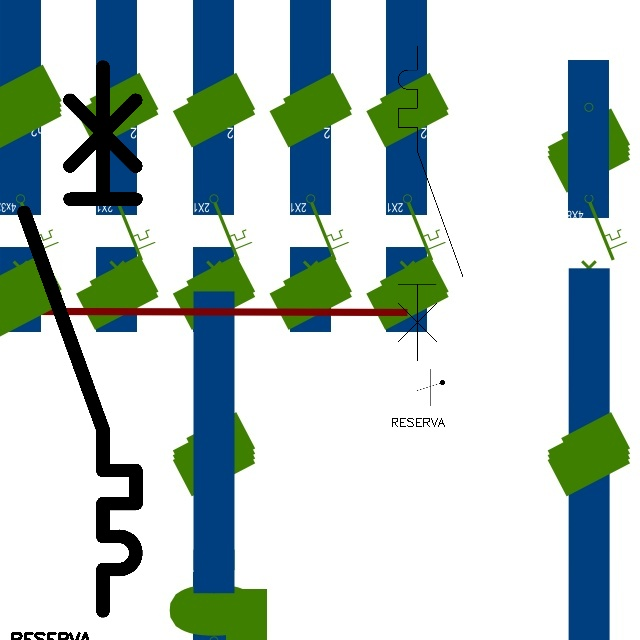interruptor_termomagnetico: (10, 53, 150, 625), (390, 38, 471, 368)
